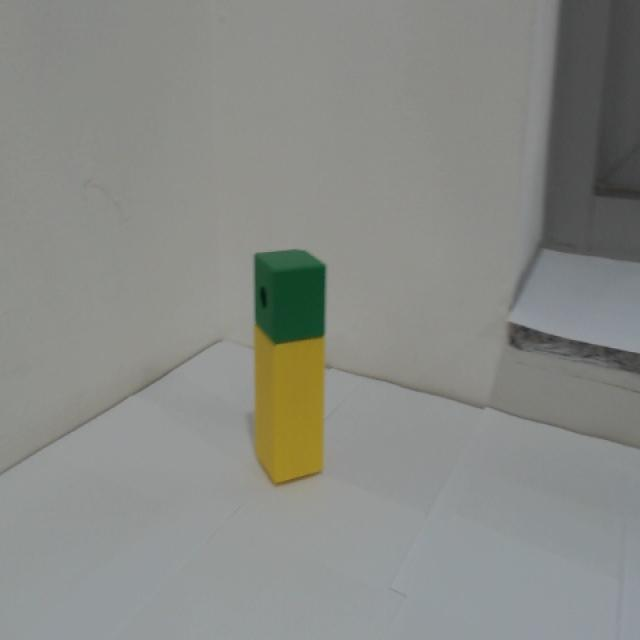cube: (249, 237, 331, 353)
